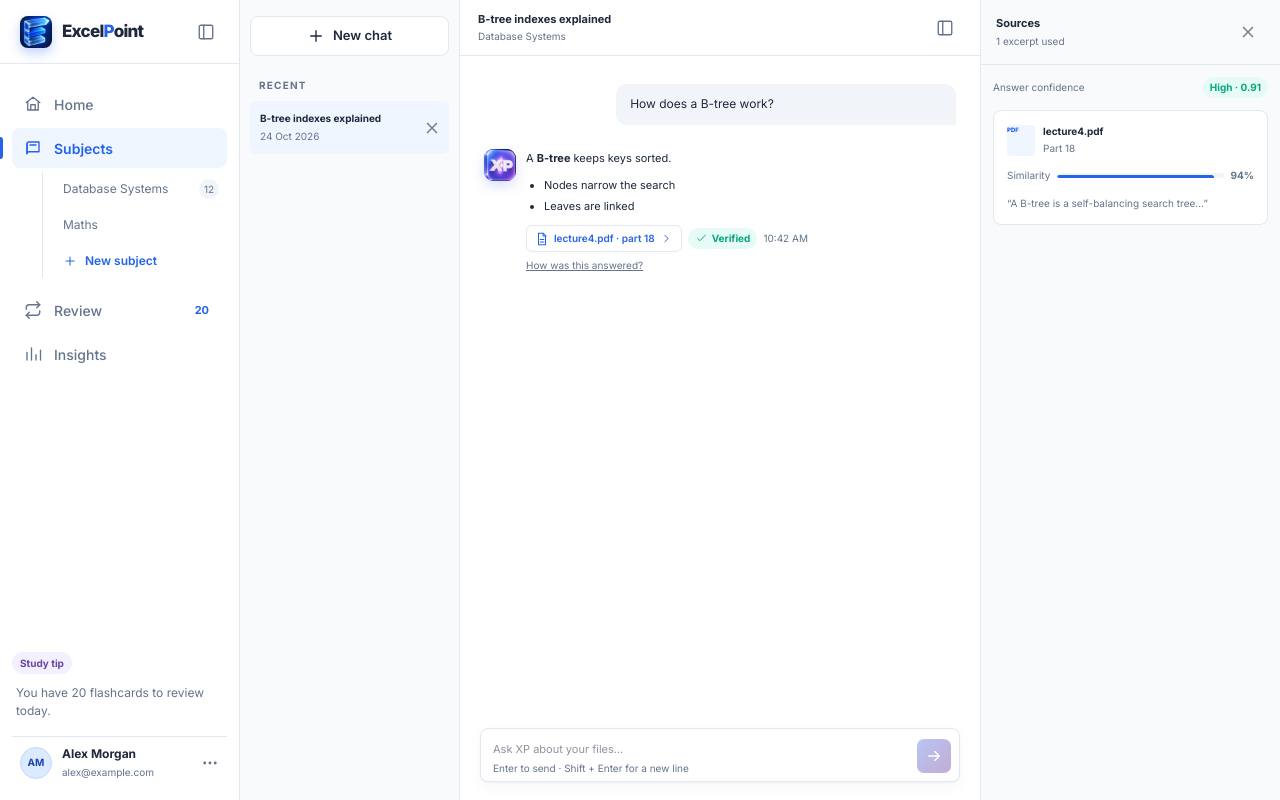
Test: Deleting a conversation › confirms, deletes and leaves the deleted conversation
Click the button named "Delete conversation: B-tree indexes explained" at (432, 128), box [415, 110, 449, 144]
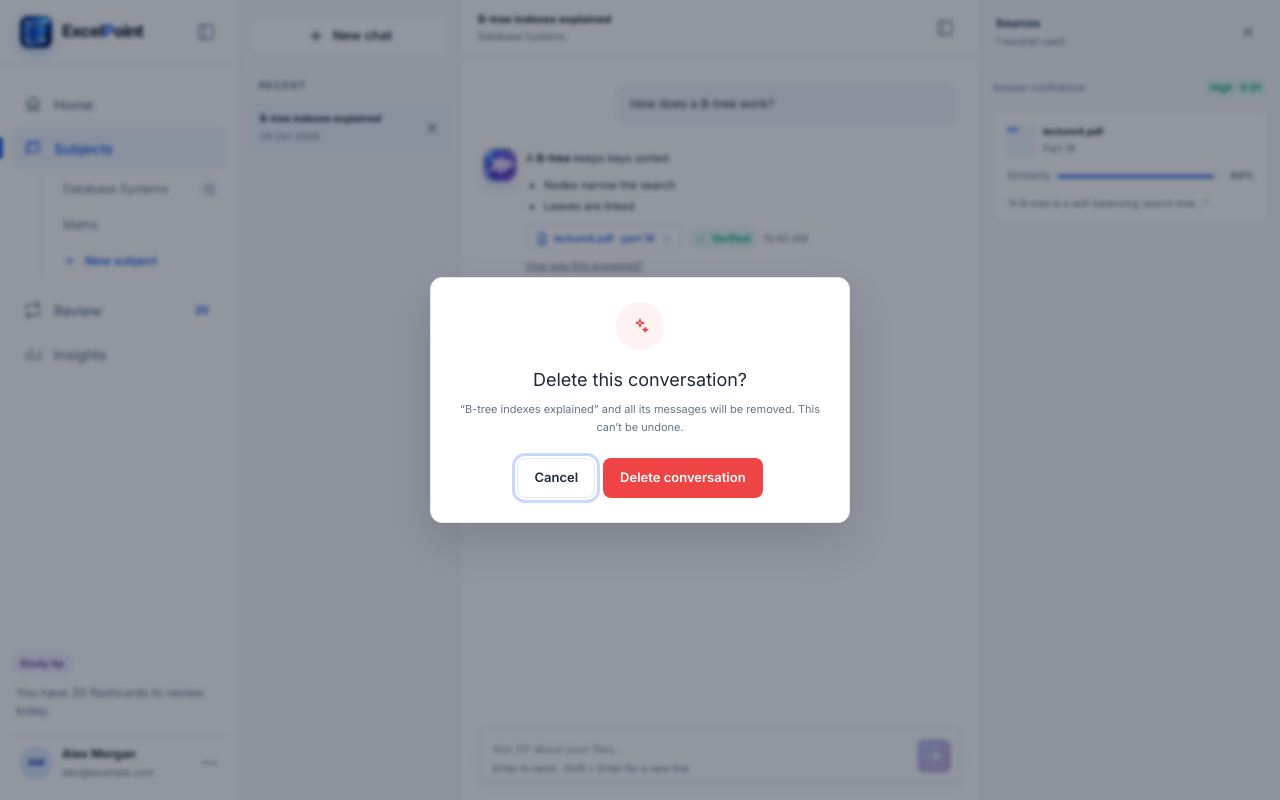
Click the button "Delete conversation" at (683, 478), box [603, 458, 763, 498]
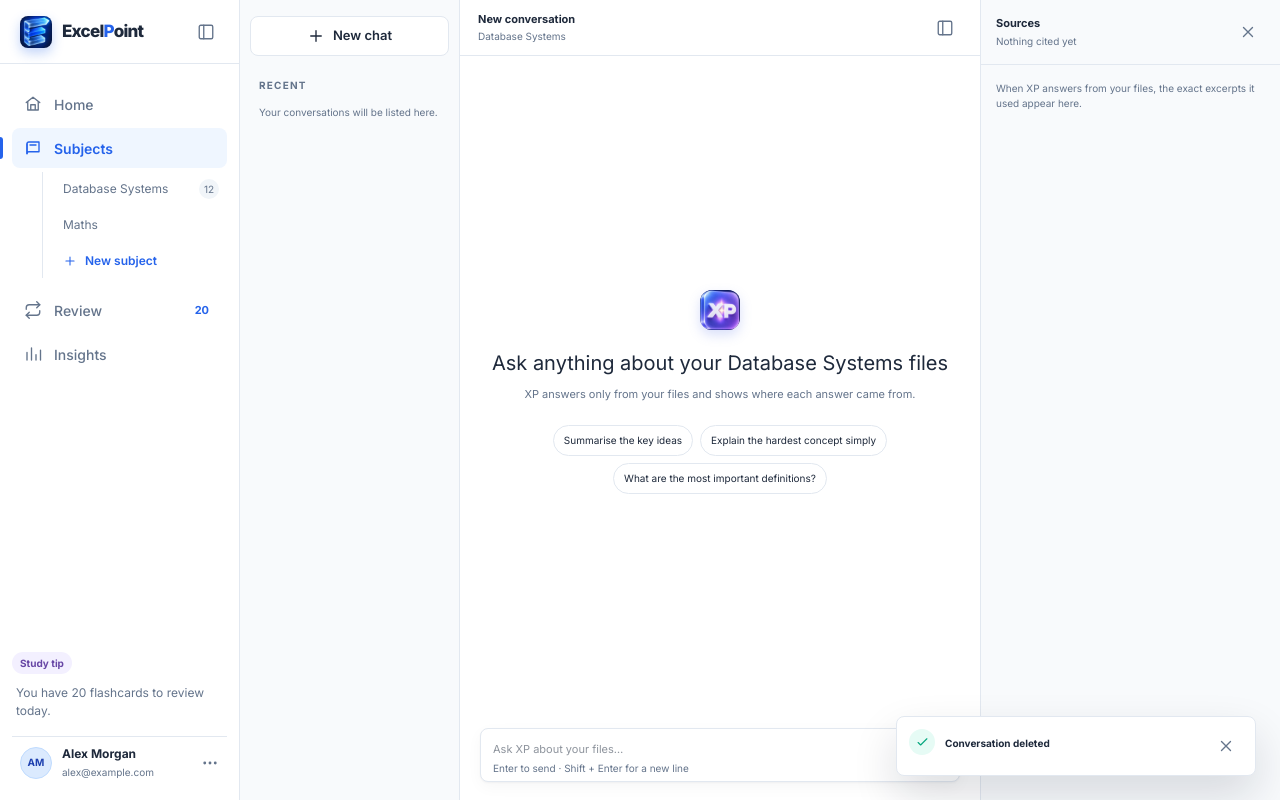
Result: the text "Conversation deleted" is shown at [945, 737, 1050, 749]
Result: the text "Your conversations will be listed here." is shown at [259, 106, 438, 118]
